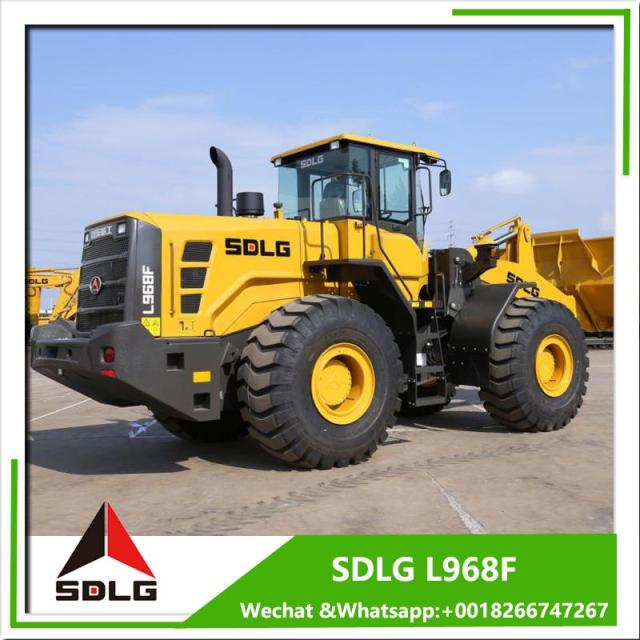buldozerpayloadergrader: (32, 130, 604, 472)
